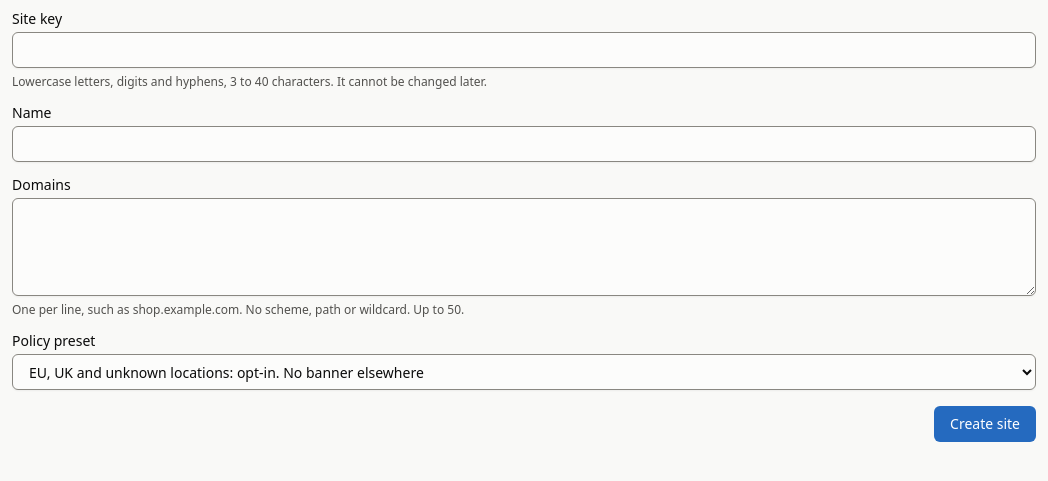
Test: a taken site key is reported on the key field
Type "shop" into the field labelled "Site key" at (524, 50), box left=12, top=32, right=1036, bottom=68
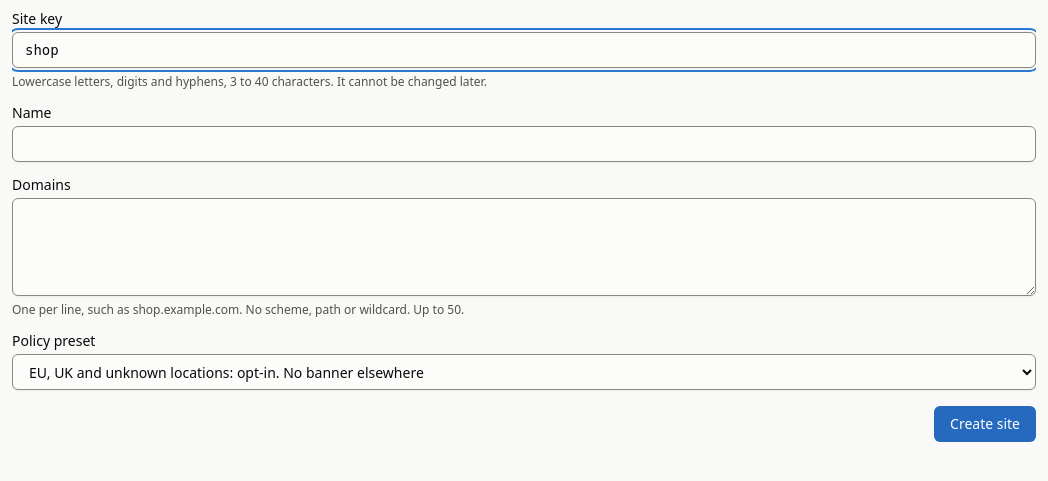
Type "Shop" into the field labelled "Name" at (524, 144), box left=12, top=126, right=1036, bottom=162
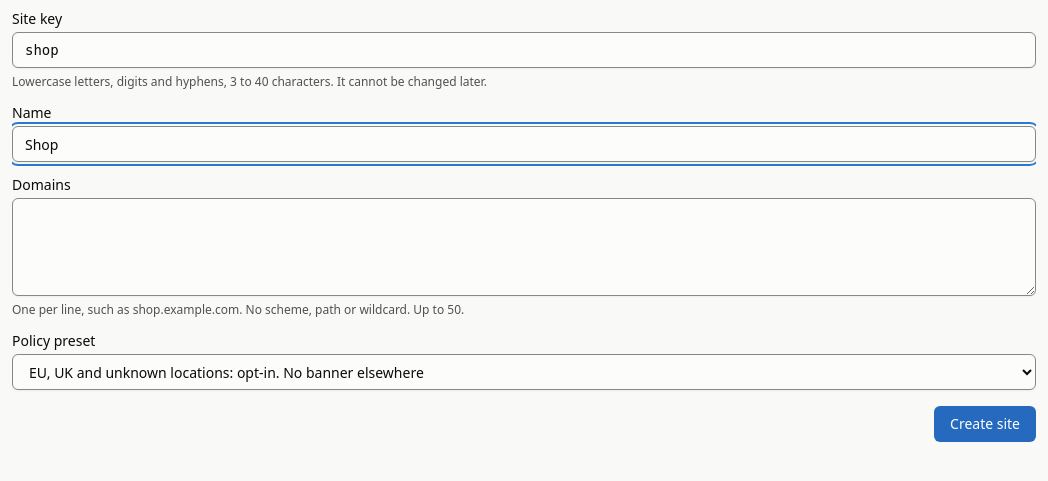
Type "shop.example.com" into the text box labelled "Domains" at (524, 247), box left=12, top=198, right=1036, bottom=296
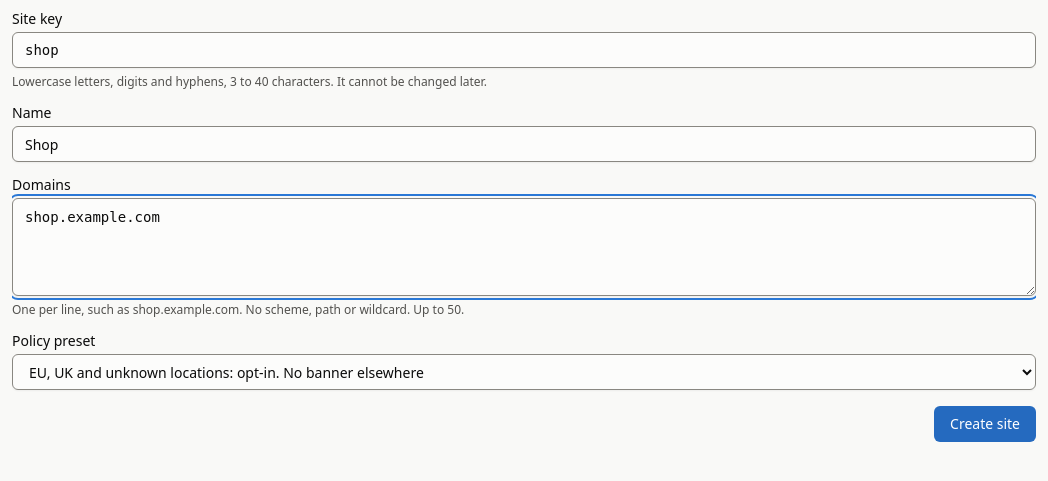
Click the button "Create site" at (985, 424), box left=934, top=406, right=1036, bottom=442
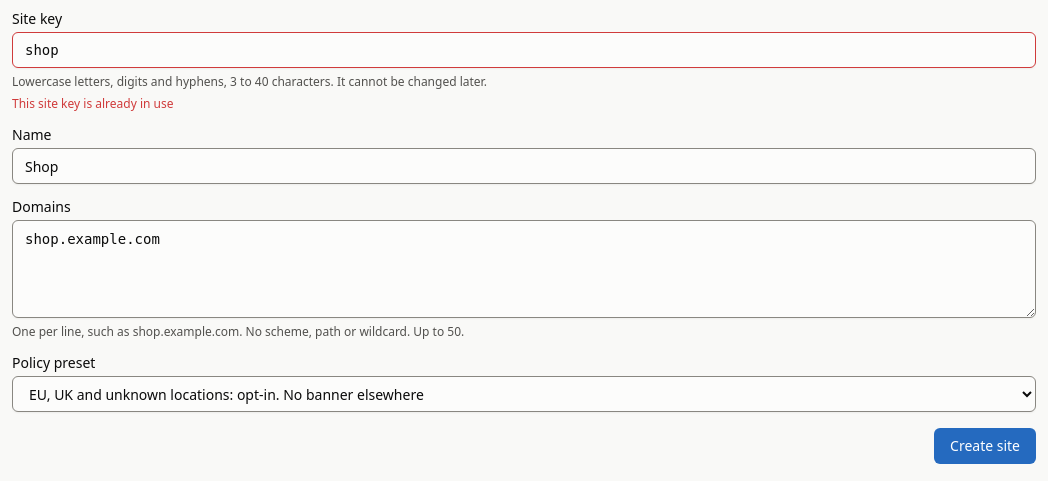
Expected: the number of messages is 1, left=12, top=95, right=174, bottom=112
